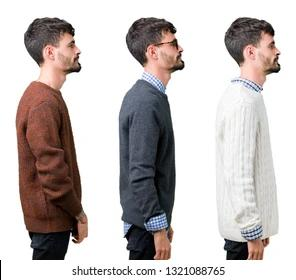long sleeve shirt: (122, 70, 172, 238), (228, 75, 268, 243)
sweater: (13, 79, 86, 234), (213, 83, 280, 242), (120, 79, 176, 228)
trousers: (126, 224, 167, 262), (30, 229, 71, 262), (223, 235, 264, 262)
